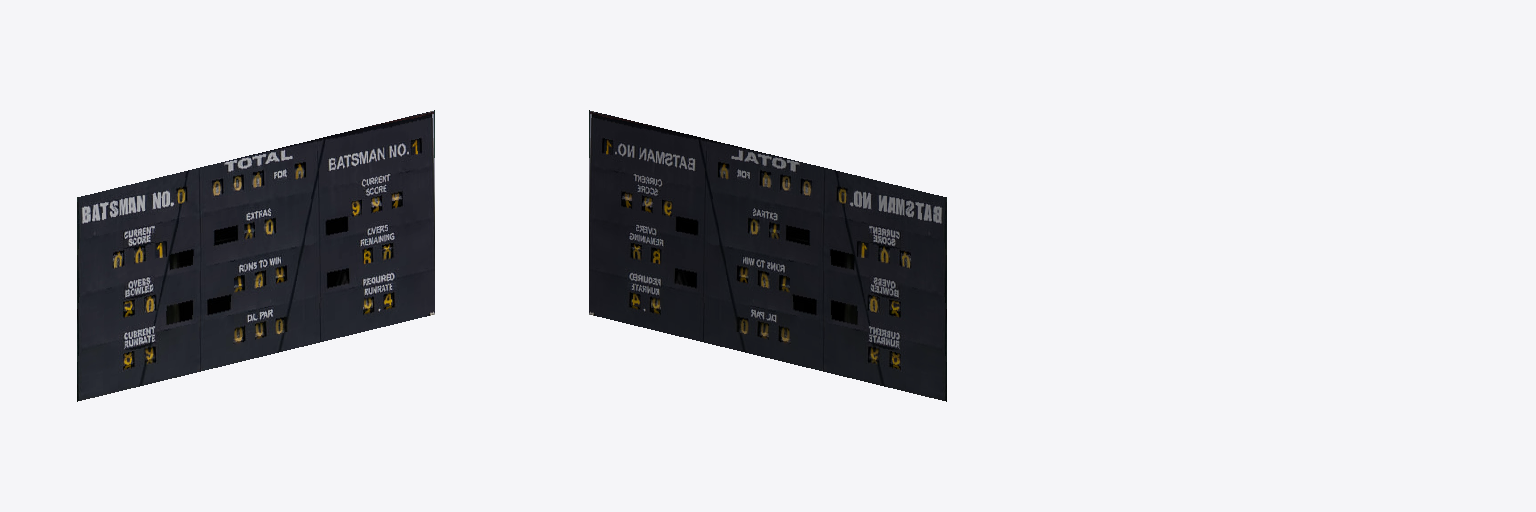
The picture shows the model from 3 angles: view 1: azimuth 30°, elevation 25°; view 2: azimuth 150°, elevation 25°; view 3: azimuth 270°, elevation 25°; orthographic projection.
Parts seen in each view (by area): view 1: Cube.003; view 2: Cube.003; view 3: none.
Part boxes in pixels (x1,y1,x2,y2): Cube.003: (77,110,434,401); Cube.003: (589,110,946,401).
Bounding box in the file's own units: 19 × 10.35 × 0.
Materials: 1 (1 with a texture image).